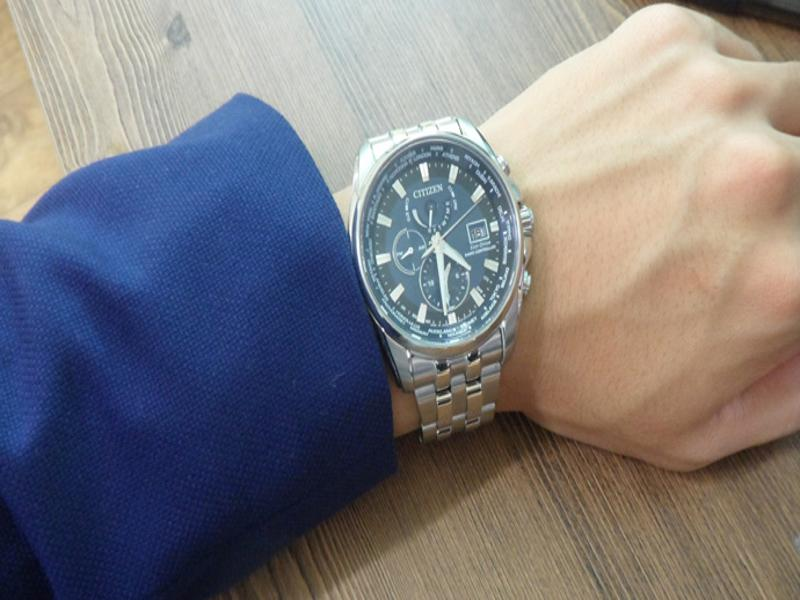watch: (345, 114, 537, 447)
